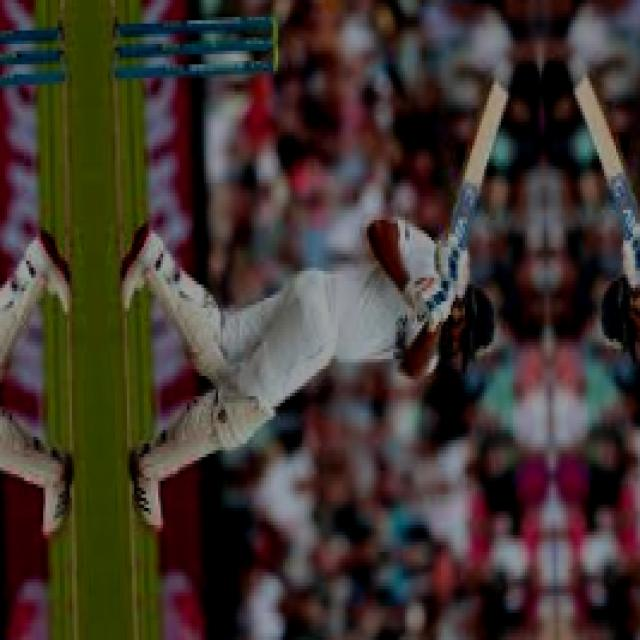toe: (484, 78, 514, 106)
